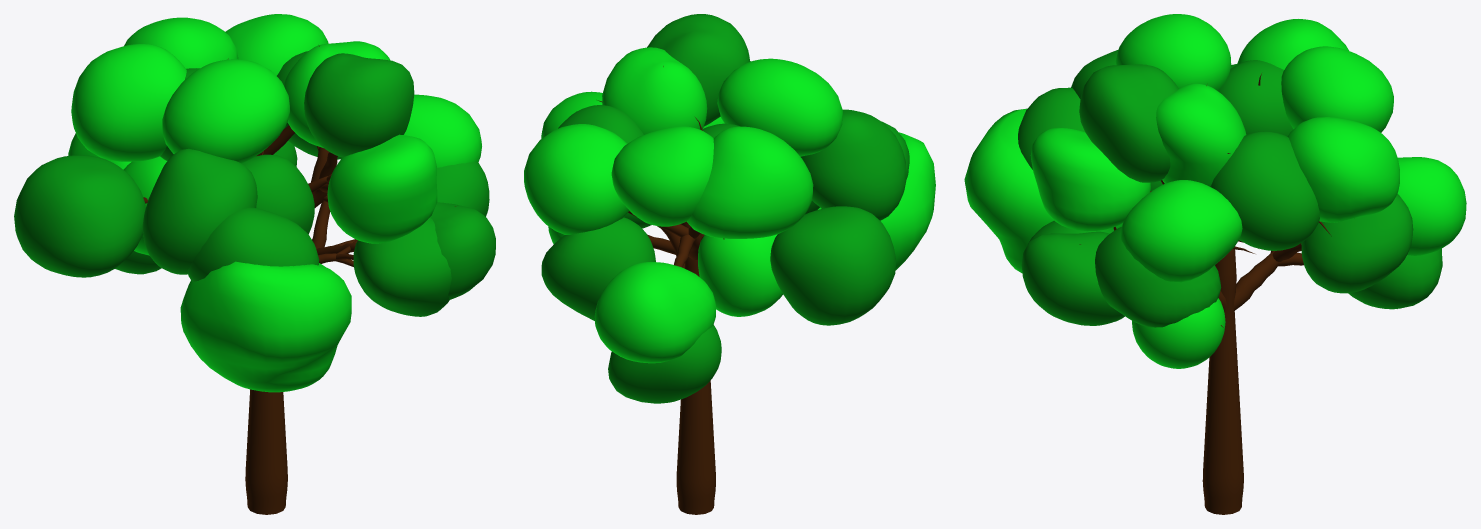
File: tree 4.fbx
The picture shows the model from 3 angles, left to right: view 1: azimuth 30°, elevation 25°; view 2: azimuth 150°, elevation 25°; view 3: azimuth 270°, elevation 25°; orthographic projection. The views are drawn at different scales.
Visible parts, largest first — view 1: Tree; view 2: Tree; view 3: Tree.
Boxes of the visible parts, x1=… form: Tree: x1=14, y1=14, x2=495, y2=514; Tree: x1=524, y1=14, x2=935, y2=514; Tree: x1=964, y1=14, x2=1466, y2=514.
Size of the model in its own units: 966 by 1079 by 1071.
